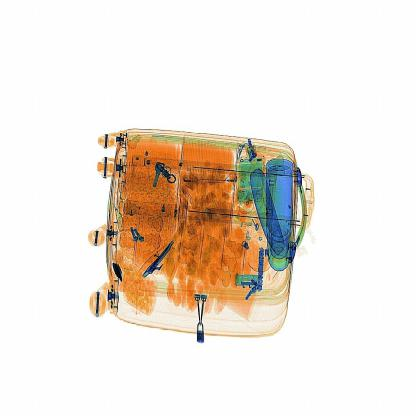pliers: (136, 231, 180, 284)
